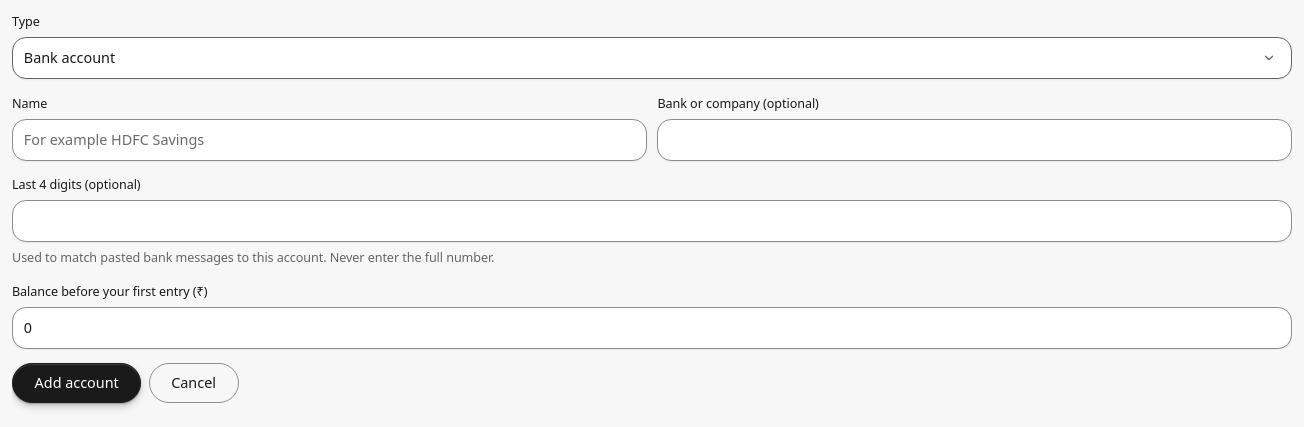
it: AccountForm without a bank account › still offers the bank list once a bank account exists
Select "Debit card" in the dropdown labelled "Type" at (652, 58), box [12,37,1292,79]
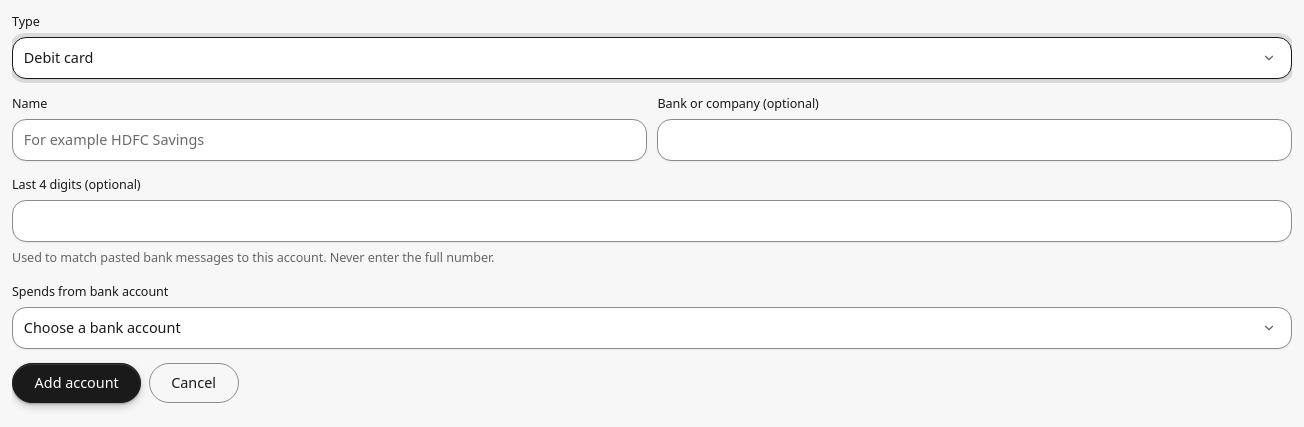
Expected: the button "Add account" is enabled, [12,363,141,403]
Expected: the dropdown labelled "Spends from bank account" is shown, [12,307,1292,349]
